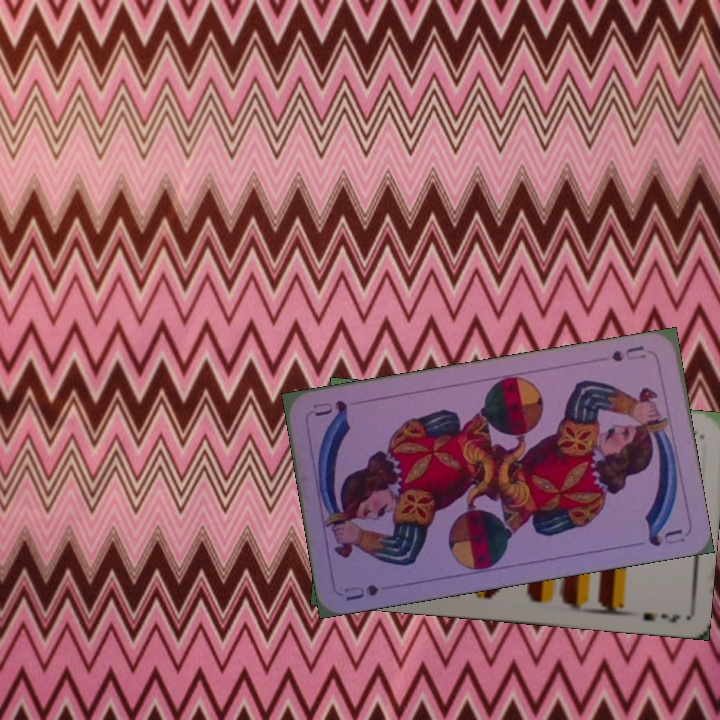SU: (340, 580, 381, 603), (607, 342, 648, 364)
